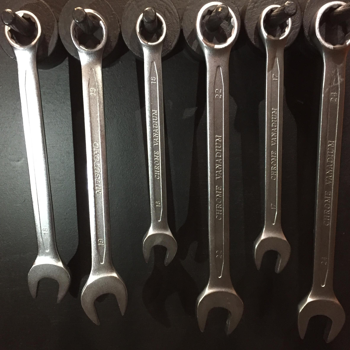bottom: (294, 291, 346, 346), (77, 273, 129, 327), (193, 284, 244, 337), (24, 256, 72, 305), (251, 228, 292, 275), (139, 227, 179, 268)
top: (307, 1, 350, 56), (193, 1, 240, 51), (66, 6, 112, 55), (2, 7, 46, 53), (257, 2, 294, 46), (133, 8, 170, 49)
